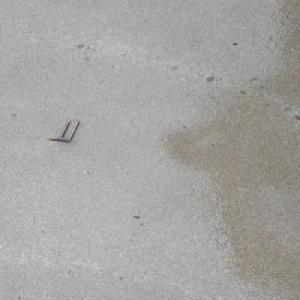MetalPart: (36, 119, 79, 142)
